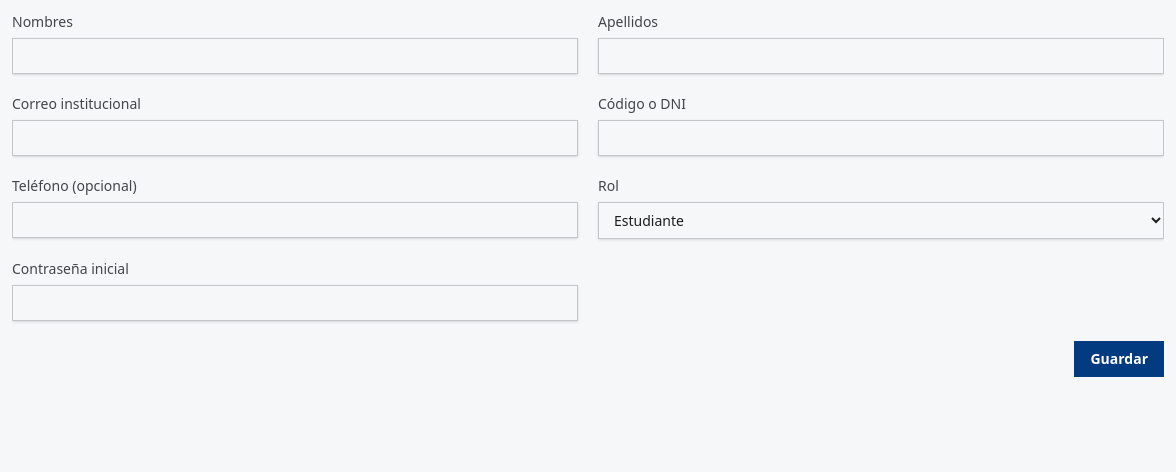
Scenario: UserForm › muestra errores de validación al crear con campos vacíos
What coordinates should you click on to do the following:
click the button "Guardar"
I would click on:
 (1119, 359)
Its box is [1074,341,1164,377].
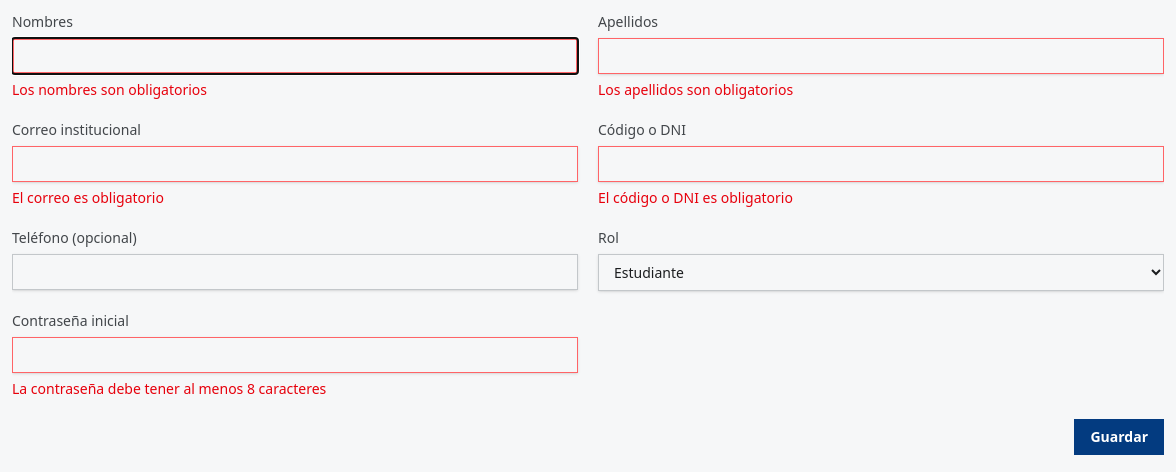
Now the text "Los nombres son obligatorios" is shown, box [12,80,207,99]
Now the text "Los apellidos son obligatorios" is shown, box [598,80,793,99]
Now the text "El correo es obligatorio" is shown, box [12,188,164,207]
